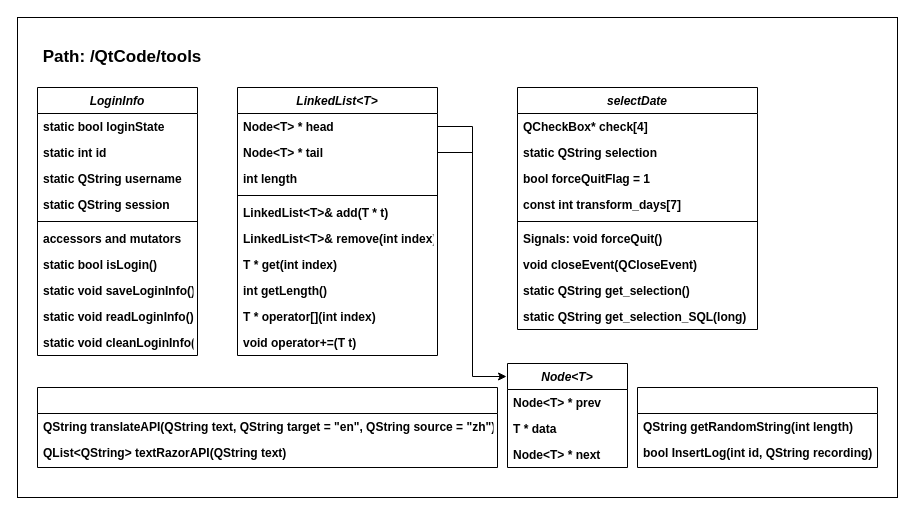
Image size: 915x515. Some labels were removed from this diagram. The box of each missing label's shape, as (x1, y1, x2, y2) in pixels:
APIs: (36, 386, 498, 468)
Tools: (636, 386, 878, 468)
